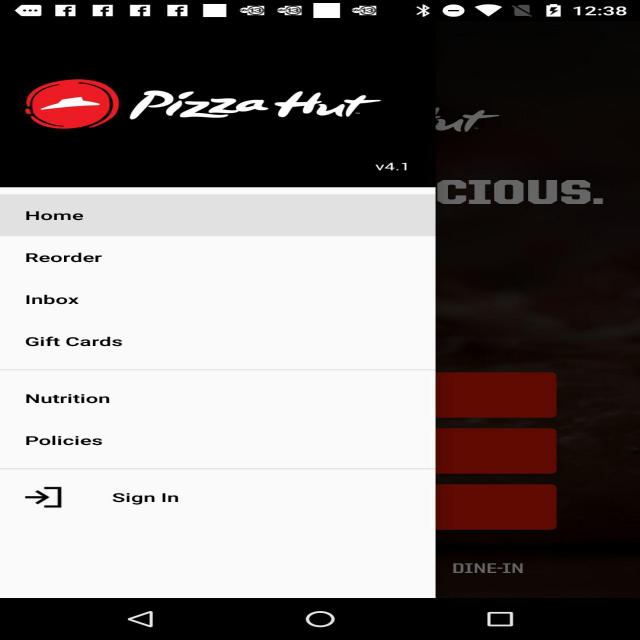button: (8, 474, 228, 518), (6, 384, 139, 454), (5, 196, 210, 232), (421, 370, 558, 422), (431, 486, 562, 531), (438, 434, 556, 476), (3, 245, 156, 277), (9, 327, 150, 361), (3, 290, 156, 318)
icon: (9, 77, 123, 134)
text: (124, 80, 387, 126), (433, 161, 619, 214), (434, 552, 544, 586), (428, 94, 499, 145), (94, 487, 210, 514), (18, 332, 136, 356), (20, 424, 109, 452), (19, 390, 124, 413), (346, 148, 429, 177), (21, 203, 94, 228), (15, 252, 110, 268), (20, 295, 106, 311)
